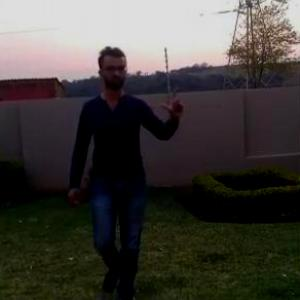land_hand: (157, 80, 190, 119)
